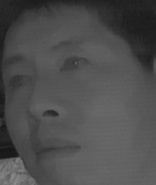eye: (59, 51, 90, 76), (7, 71, 36, 91)
mouth: (31, 131, 83, 165)
